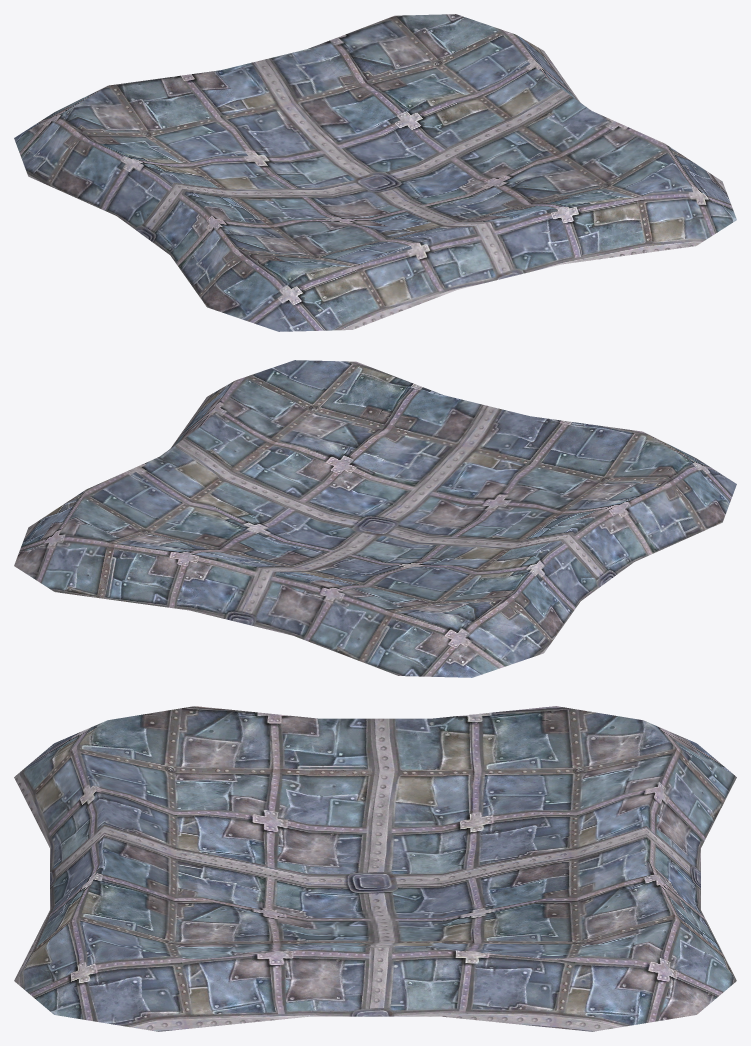
The model's file is silde.obj.
The picture shows the model from 3 angles, top to bottom: view 1: azimuth 30°, elevation 25°; view 2: azimuth 150°, elevation 25°; view 3: azimuth 270°, elevation 25°; orthographic projection. The views are drawn at different scales.
Bounding box in the file's own units: 64.8 × 4.8 × 64.8.
1 material, 1 textured.
